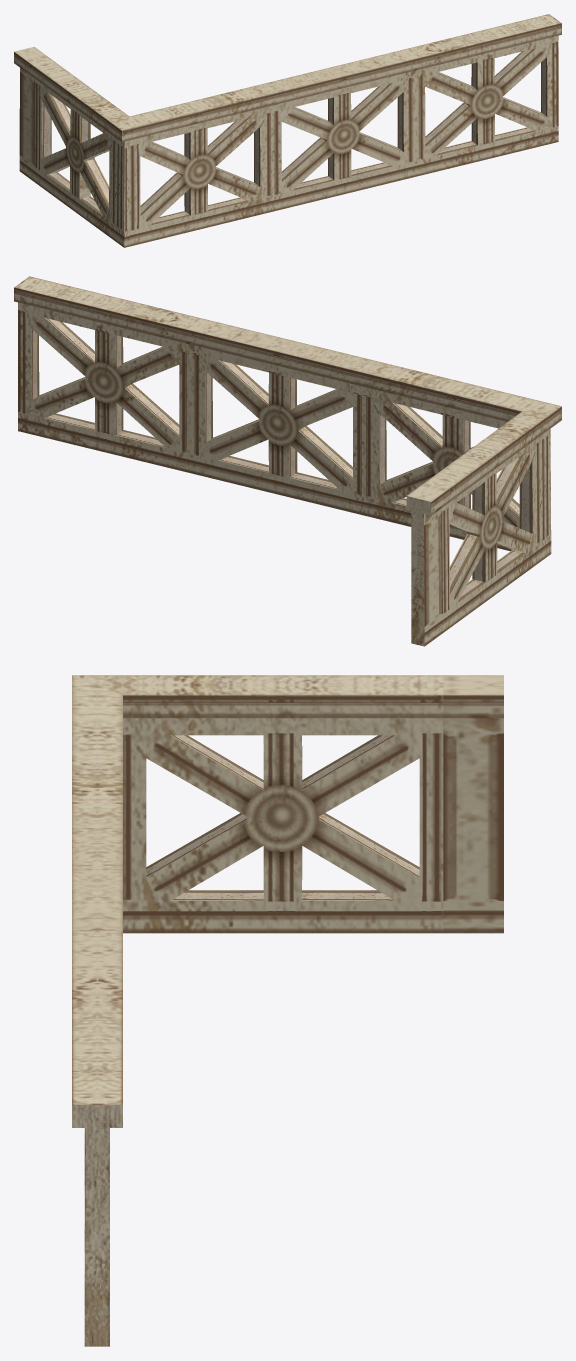
The model's file is svspartarail3.dae.
The picture shows the model from 3 angles, top to bottom: view 1: azimuth 30°, elevation 25°; view 2: azimuth 150°, elevation 25°; view 3: azimuth 270°, elevation 25°; orthographic projection. The views are drawn at different scales.
Visible parts, largest first — view 1: unnamed_object29_copy36-0; view 2: unnamed_object29_copy36-0; view 3: unnamed_object29_copy36-0.
Boxes of the visible parts, x1,y1,x2,y2 form: unnamed_object29_copy36-0: (14,14,561,247); unnamed_object29_copy36-0: (14,276,561,646); unnamed_object29_copy36-0: (72,675,503,1346).
Size of the model in its own units: 300 by 78.75 by 128.
